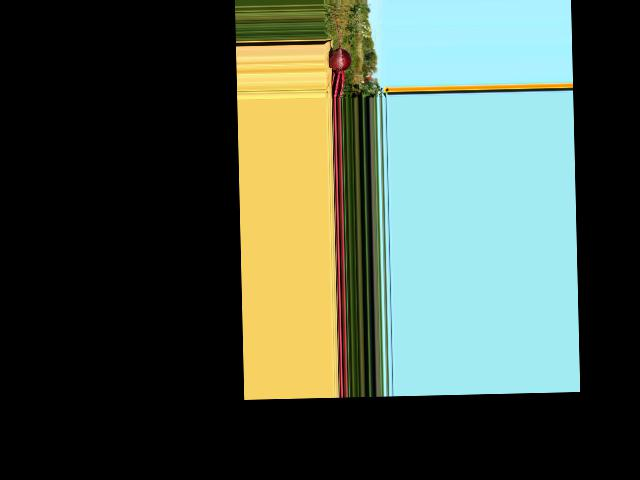beet: (327, 6, 351, 99)
